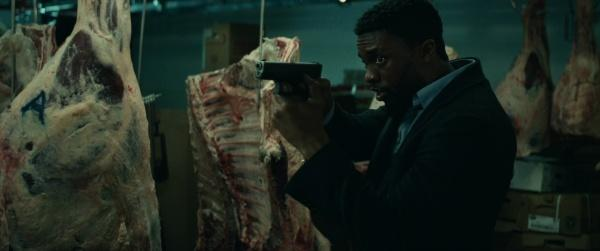Gun: (255, 59, 323, 102)
